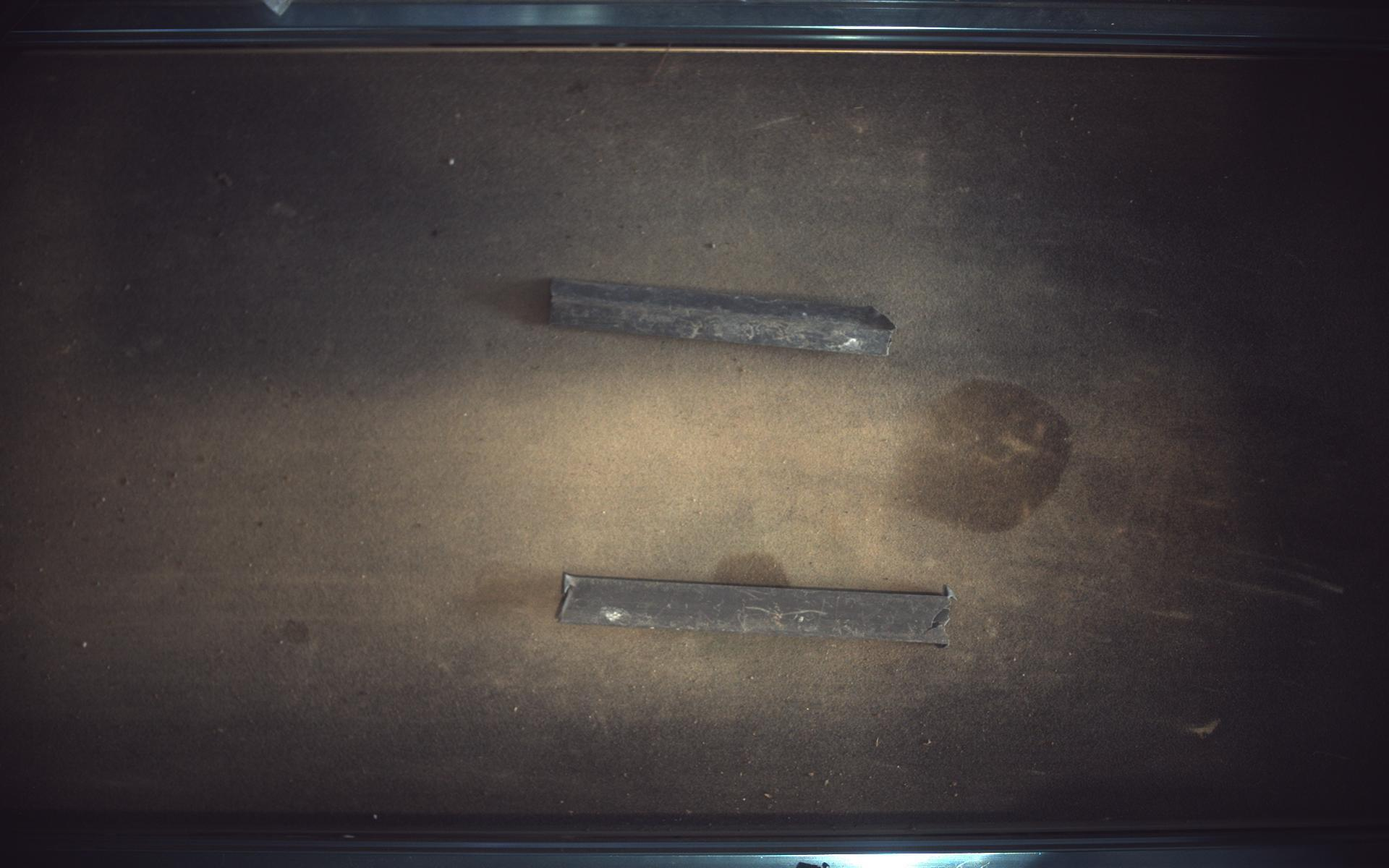plastic: (558, 574, 956, 647), (550, 278, 896, 356)
